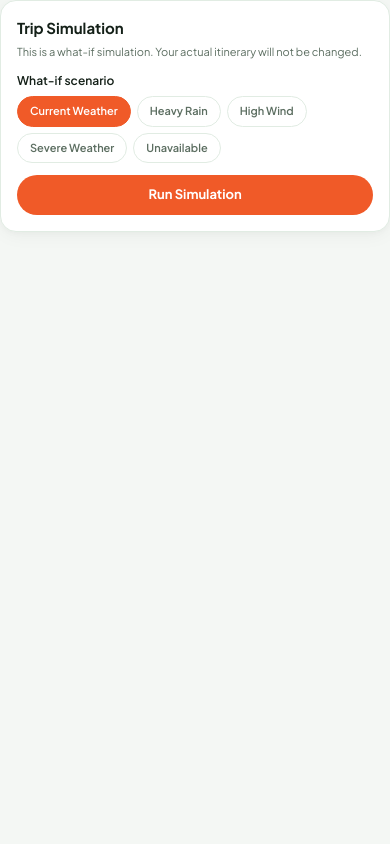
SimulationCard › runs simulation with selected scenario
Click the button "Heavy Rain" at (179, 111), box x1=137 y1=96 x2=221 y2=126
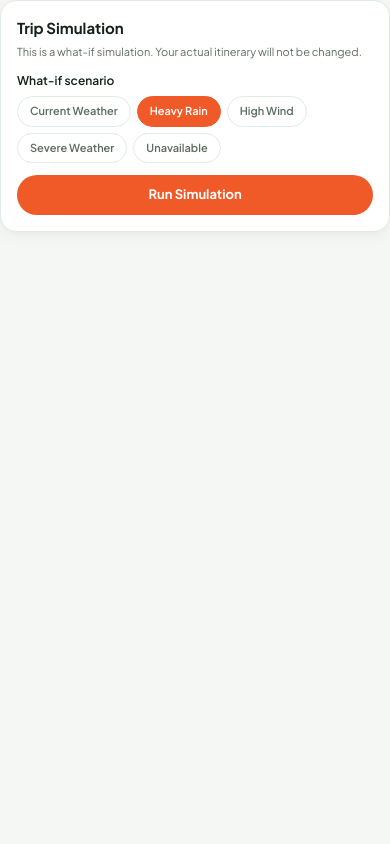
Click the button "Run Simulation" at (195, 195), box x1=17 y1=175 x2=373 y2=214
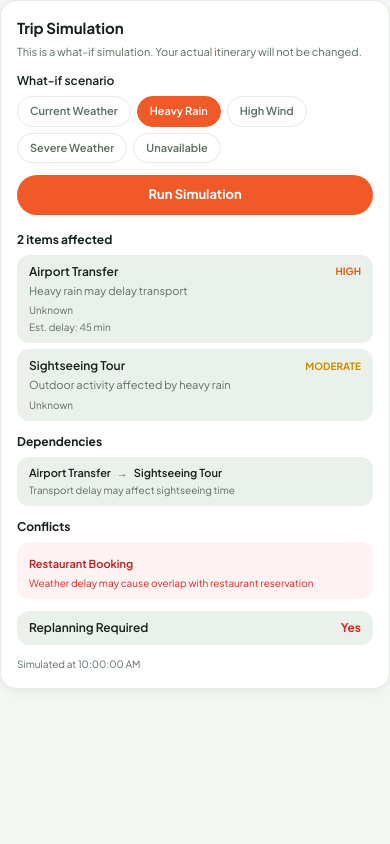
expect the text "2 items affected" is shown: met, box x1=17 y1=232 x2=112 y2=246
